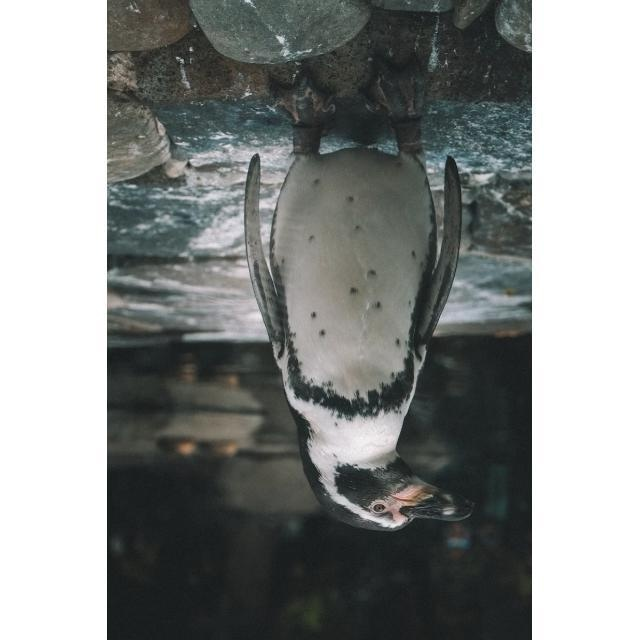penguin: (241, 55, 476, 534)
